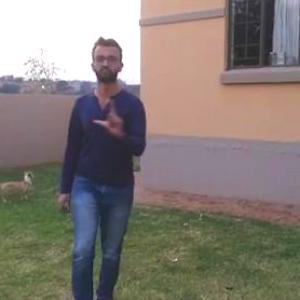land_hand: (93, 94, 129, 138)
